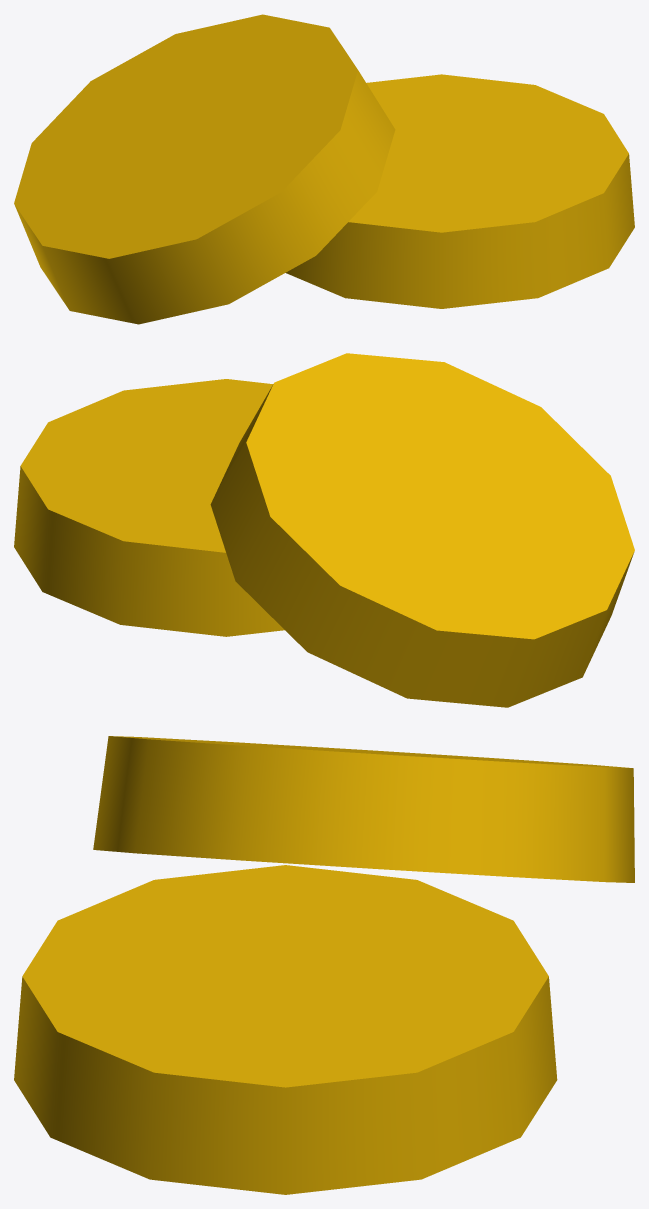
Rendered from SM_CarrotSlice2.fbx.
3 views of the same model, one above another, from view 1: azimuth 30°, elevation 25°; view 2: azimuth 150°, elevation 25°; view 3: azimuth 270°, elevation 25° (orthographic). The views are drawn at different scales.
Parts seen in each view (by area): view 1: polySurface5, polySurface4; view 2: polySurface5, polySurface4; view 3: polySurface4, polySurface5.
Boxes of the visible parts, x1,y1,x2,y2 form: polySurface5: (14,14,395,324); polySurface4: (285,74,634,308); polySurface5: (210,353,634,707); polySurface4: (14,379,284,636); polySurface4: (14,865,557,1194); polySurface5: (93,736,634,882).
Bounding box in the file's own units: 78.64 × 29.19 × 55.7.
